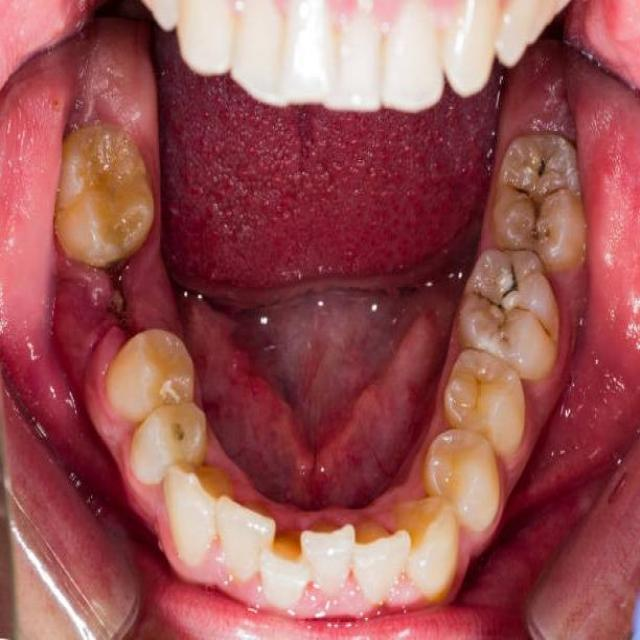caries: (512, 175, 568, 245), (96, 278, 139, 335), (512, 296, 558, 346), (476, 284, 514, 340), (496, 255, 526, 302), (164, 415, 196, 457), (526, 147, 556, 184)
